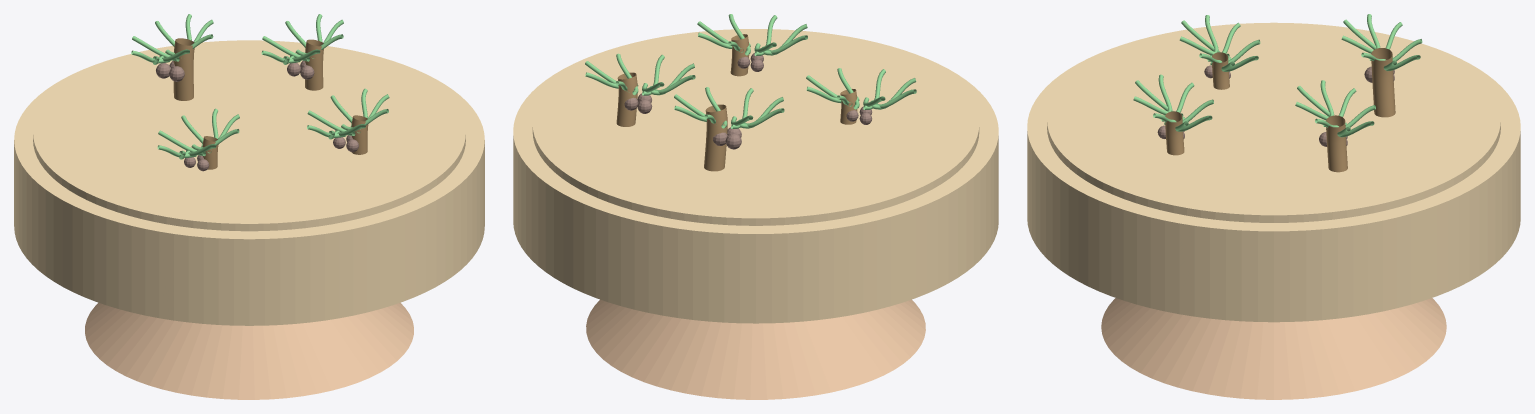
File: 01_sonnenstrand.glb
3 renders of one model, left to right at view 1: azimuth 30°, elevation 25°; view 2: azimuth 150°, elevation 25°; view 3: azimuth 270°, elevation 25°, orthographic. The views are drawn at different scales.
Visible parts, largest first — view 1: GrassTop, Island, IslandDrip, PalmCurve.002, PalmCurve, PalmCurve.003; view 2: GrassTop, Island, IslandDrip, PalmCurve.002, PalmCurve, PalmCurve.003; view 3: GrassTop, Island, IslandDrip, PalmCurve.002, PalmCurve, PalmCurve.003, PalmCurve.001.
Part boxes in pixels (bbox=[...]): GrassTop: bbox=[33, 41, 465, 231]; Island: bbox=[14, 40, 484, 325]; IslandDrip: bbox=[85, 302, 413, 399]; PalmCurve.002: bbox=[173, 38, 194, 100]; PalmCurve: bbox=[304, 39, 323, 90]; PalmCurve.003: bbox=[351, 115, 368, 154]; GrassTop: bbox=[532, 29, 979, 225]; Island: bbox=[513, 29, 998, 323]; IslandDrip: bbox=[586, 299, 925, 399]; PalmCurve.002: bbox=[704, 104, 727, 171]; PalmCurve: bbox=[616, 72, 637, 126]; PalmCurve.003: bbox=[730, 34, 749, 76]; GrassTop: bbox=[1047, 23, 1500, 222]; Island: bbox=[1027, 22, 1520, 322]; IslandDrip: bbox=[1101, 298, 1446, 399]; PalmCurve.002: bbox=[1371, 48, 1395, 117]; PalmCurve: bbox=[1326, 115, 1347, 172]; PalmCurve.003: bbox=[1165, 111, 1184, 155]; PalmCurve.001: bbox=[1212, 52, 1229, 89].
Bounding box in the file's own units: 6.4 × 3.96 × 6.4.
